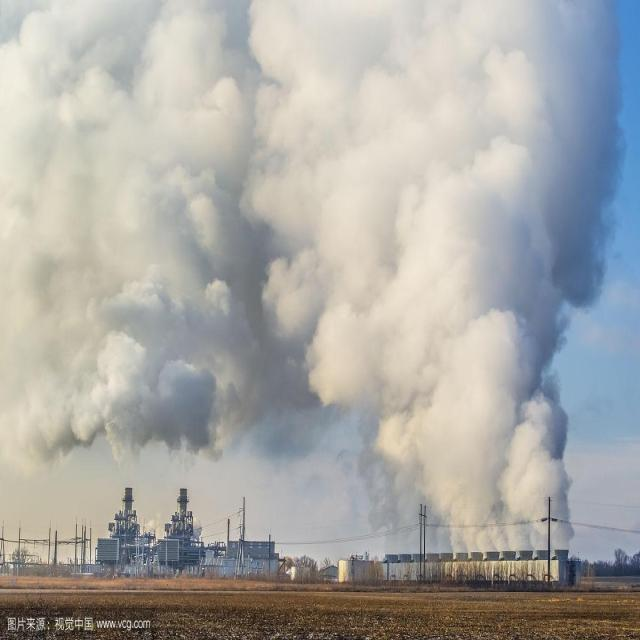Smoke: (0, 0, 630, 559)
